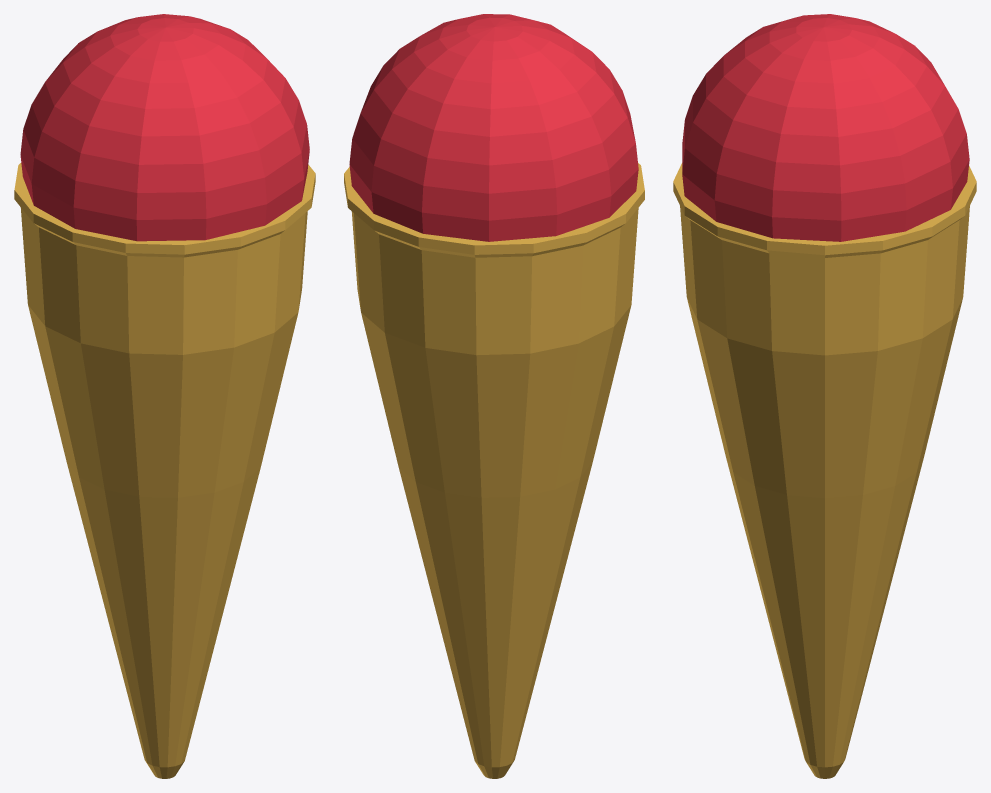
File: LowPoly_IceCream.fbx
3 renders of one model, left to right at view 1: azimuth 30°, elevation 25°; view 2: azimuth 150°, elevation 25°; view 3: azimuth 270°, elevation 25°, orthographic.
Visible parts, largest first — view 1: Cone, Ice Cream; view 2: Cone, Ice Cream; view 3: Cone, Ice Cream.
Boxes of the visible parts, x1,y1,x2,y2 form: Cone: (14, 163, 315, 778); Ice Cream: (20, 14, 309, 241); Cone: (344, 163, 644, 778); Ice Cream: (349, 14, 638, 241); Cone: (673, 163, 976, 778); Ice Cream: (682, 14, 969, 241).
Bounding box in the file's own units: 4.17 × 11.32 × 4.17.
